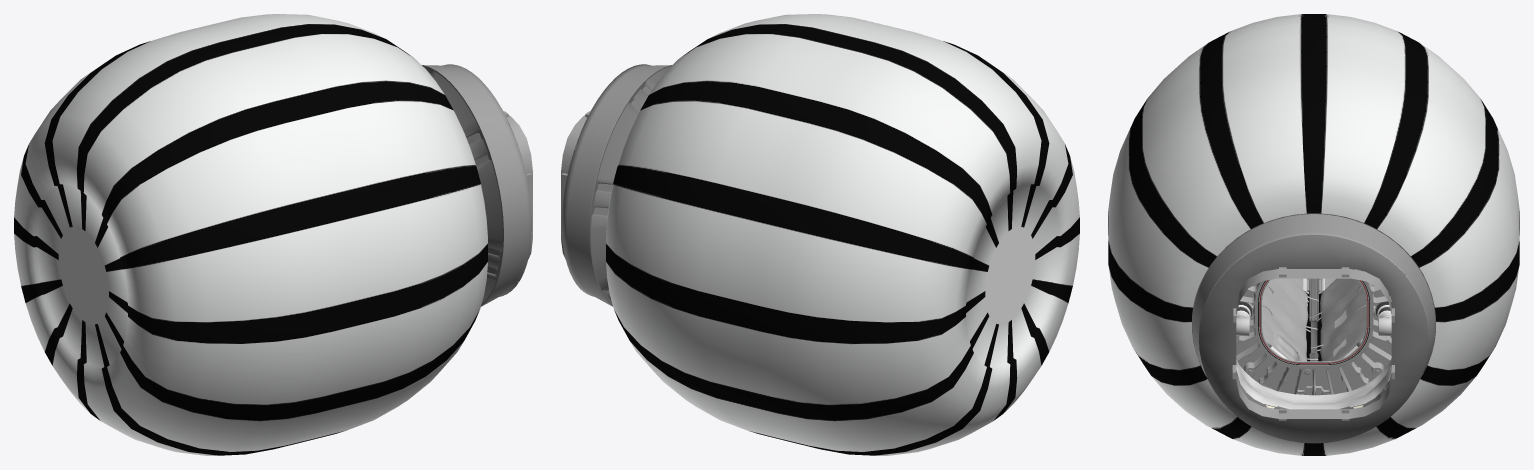
The model's file is BEAM.fbx.
3 views of the same model, side by side, from view 1: azimuth 30°, elevation 25°; view 2: azimuth 150°, elevation 25°; view 3: azimuth 270°, elevation 25° (orthographic). The views are drawn at different scales.
Visible parts, largest first — view 1: BEAM_Interior; view 2: BEAM_Interior; view 3: BEAM_Interior.
Boxes of the visible parts, x1,y1,x2,y2 form: BEAM_Interior: (14,14,532,455); BEAM_Interior: (561,14,1079,455); BEAM_Interior: (1108,14,1519,455).
Size of the model in its own units: 3767 by 3380 by 3380.
